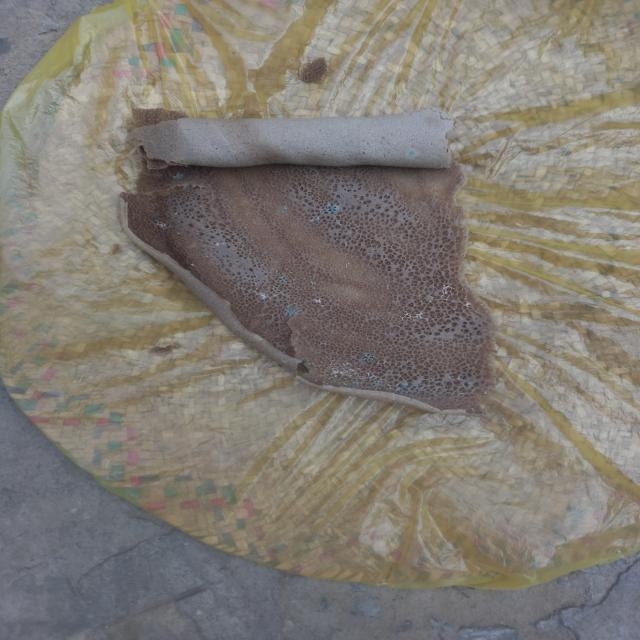injera_mold: (326, 366, 358, 381), (280, 302, 302, 320), (150, 218, 175, 232), (397, 384, 427, 394), (321, 202, 342, 216), (253, 288, 274, 302), (401, 311, 427, 322), (275, 271, 291, 288), (359, 352, 378, 363), (440, 282, 451, 301), (171, 170, 188, 182), (312, 296, 327, 308), (310, 214, 323, 226), (460, 297, 474, 308), (457, 372, 469, 383), (405, 148, 418, 158), (292, 357, 310, 364), (370, 379, 384, 387), (309, 279, 320, 289), (189, 260, 198, 271), (366, 372, 381, 378), (194, 184, 209, 190), (214, 238, 222, 249), (319, 340, 330, 348), (252, 334, 264, 341), (280, 358, 288, 367), (470, 406, 478, 415), (379, 358, 388, 366), (278, 206, 288, 213), (343, 262, 354, 268), (341, 360, 354, 365), (296, 378, 306, 384), (349, 382, 359, 387), (173, 210, 180, 216), (195, 228, 200, 236), (240, 256, 246, 262), (252, 280, 258, 286), (199, 203, 204, 210), (338, 167, 345, 172), (408, 394, 416, 398), (337, 221, 343, 226), (229, 233, 239, 236), (412, 303, 418, 308), (460, 287, 465, 293), (429, 373, 435, 378), (385, 193, 392, 197), (252, 274, 259, 278), (301, 369, 308, 373), (342, 382, 349, 386), (468, 382, 473, 387), (386, 284, 390, 290), (176, 231, 182, 235), (344, 241, 348, 247), (319, 360, 325, 364), (428, 299, 432, 304), (388, 331, 392, 336), (483, 391, 488, 395), (330, 359, 335, 363), (448, 374, 453, 378), (443, 330, 448, 334), (431, 318, 436, 322), (205, 254, 209, 258), (395, 296, 399, 300), (452, 308, 456, 312), (262, 314, 266, 318), (243, 226, 247, 230), (418, 294, 422, 298), (458, 176, 463, 179), (406, 359, 409, 364), (436, 386, 441, 389), (332, 381, 339, 383), (402, 352, 409, 354), (388, 348, 394, 350), (328, 364, 334, 366), (421, 362, 424, 366), (483, 329, 487, 332), (420, 300, 424, 303), (394, 306, 398, 309), (297, 332, 301, 335), (178, 200, 182, 203), (229, 184, 233, 187), (393, 142, 397, 145), (429, 296, 435, 298), (354, 355, 358, 358), (411, 343, 414, 347), (317, 365, 322, 367), (394, 363, 399, 365), (311, 362, 314, 365), (402, 378, 405, 381), (356, 360, 358, 364), (474, 361, 478, 363), (374, 388, 378, 390), (315, 379, 317, 382), (481, 303, 483, 306), (335, 300, 338, 302), (327, 171, 330, 173), (275, 294, 277, 296), (394, 330, 396, 332), (386, 355, 388, 357)
